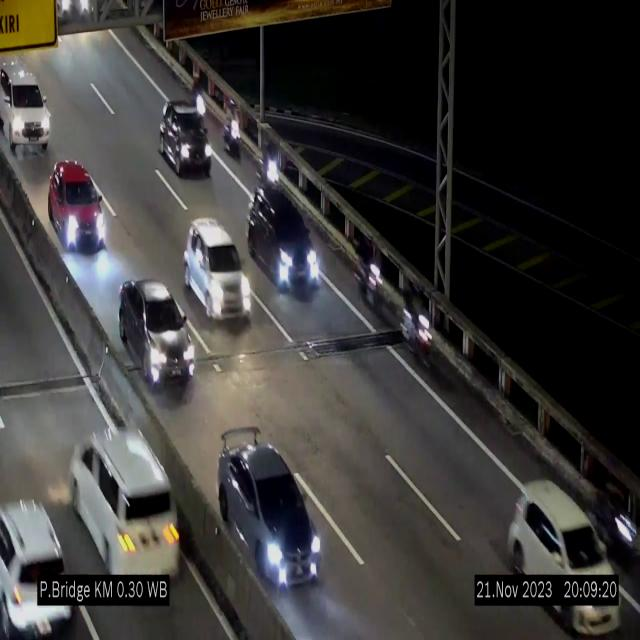Car: (59, 415, 201, 599), (501, 468, 623, 636), (218, 435, 320, 584), (0, 473, 75, 640), (250, 180, 321, 298), (119, 281, 195, 383), (183, 218, 250, 322), (48, 160, 108, 250), (0, 58, 52, 154), (159, 99, 211, 177)
Motorcycle: (596, 474, 636, 565), (404, 286, 432, 377), (364, 244, 386, 322), (225, 86, 240, 174), (262, 135, 282, 197), (188, 68, 207, 120)
